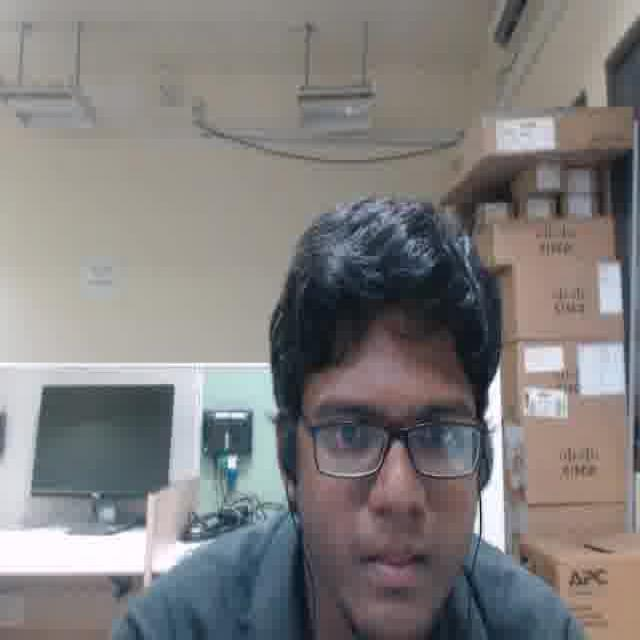Engaged: (298, 321, 479, 632)
